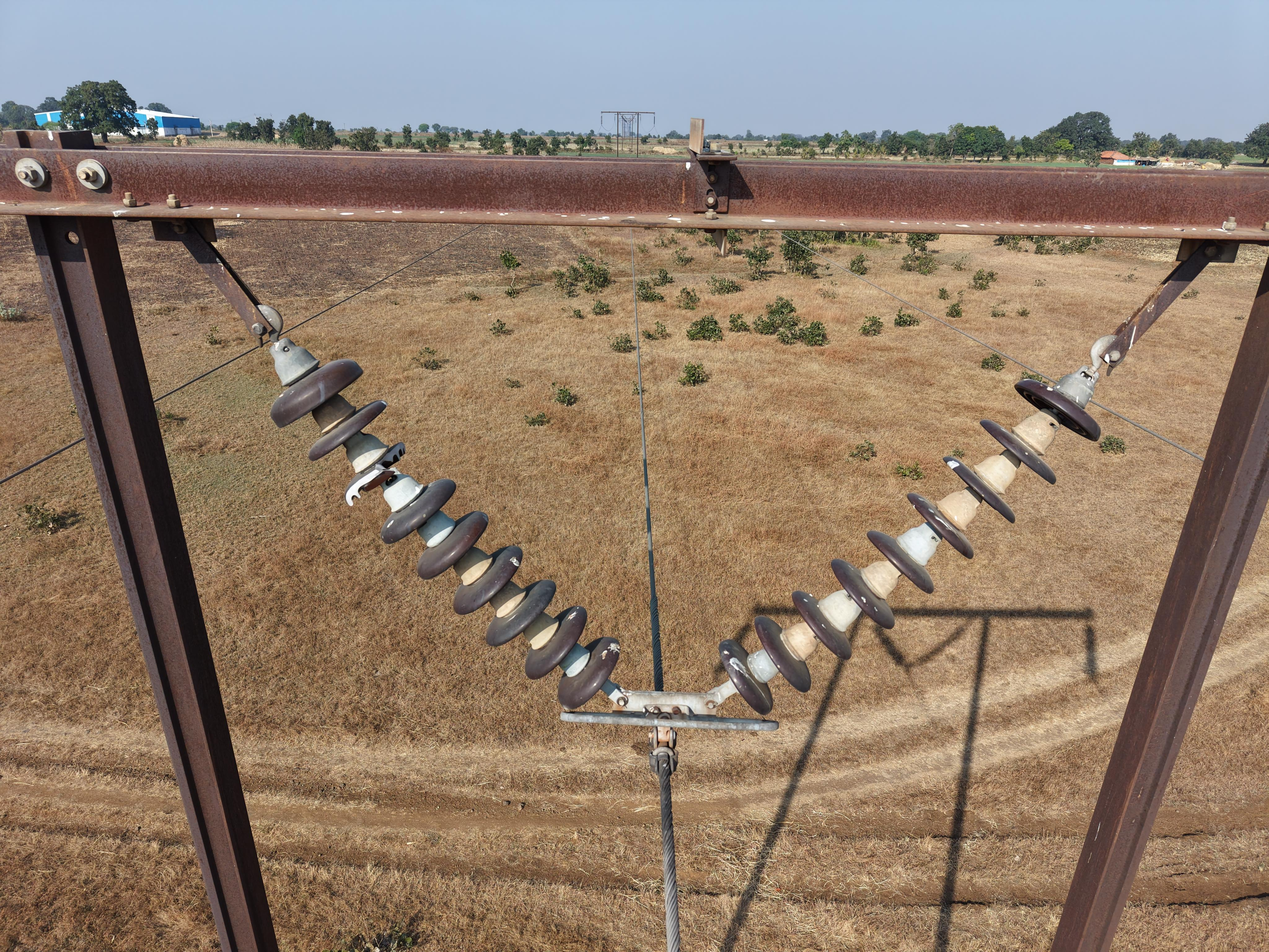broken_insulator: (345, 440, 407, 507)
